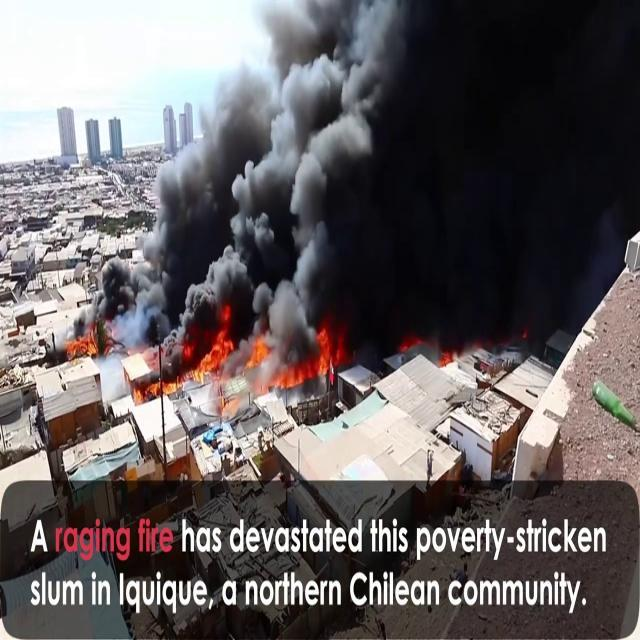Fire: (251, 321, 343, 395), (120, 342, 230, 393)
Smoke: (97, 1, 639, 355)
